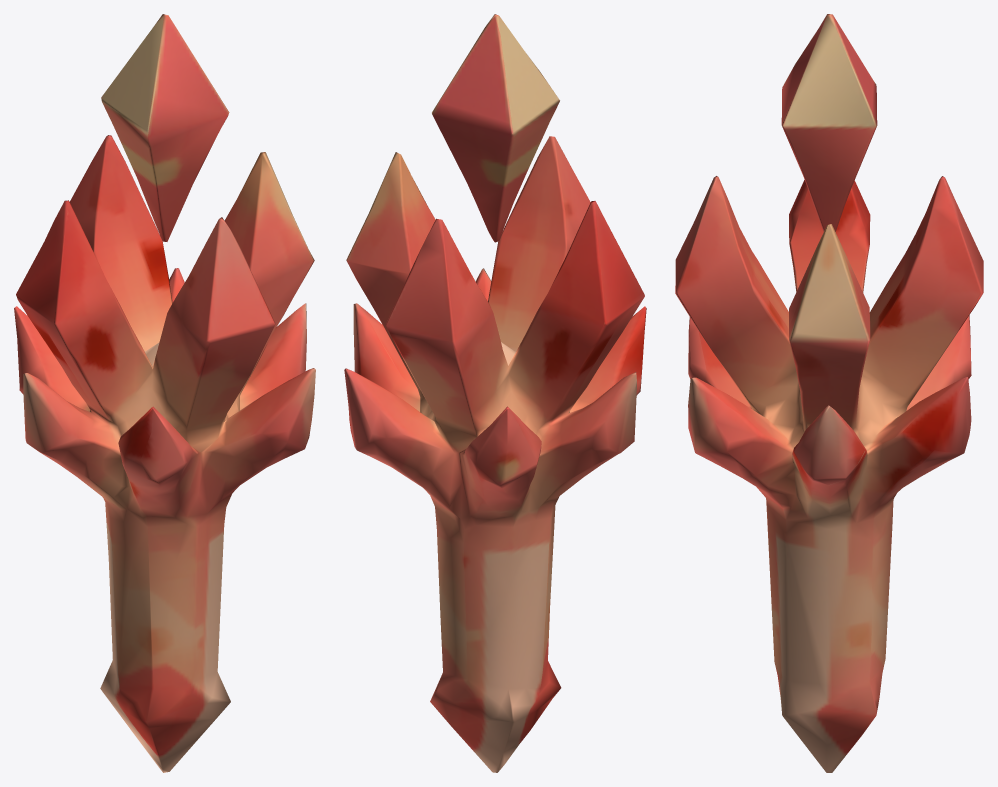
3 renders of one model, left to right at view 1: azimuth 30°, elevation 25°; view 2: azimuth 150°, elevation 25°; view 3: azimuth 270°, elevation 25°, orthographic.
Visible parts, largest first — view 1: gem-weapon; view 2: gem-weapon; view 3: gem-weapon.
Boxes of the visible parts, x1,y1,x2,y2 form: gem-weapon: (14, 14, 315, 772); gem-weapon: (344, 14, 646, 772); gem-weapon: (675, 14, 983, 772).
Size of the model in its own units: 0.1422 by 0.364 by 0.1341.
1 material, 1 textured.
